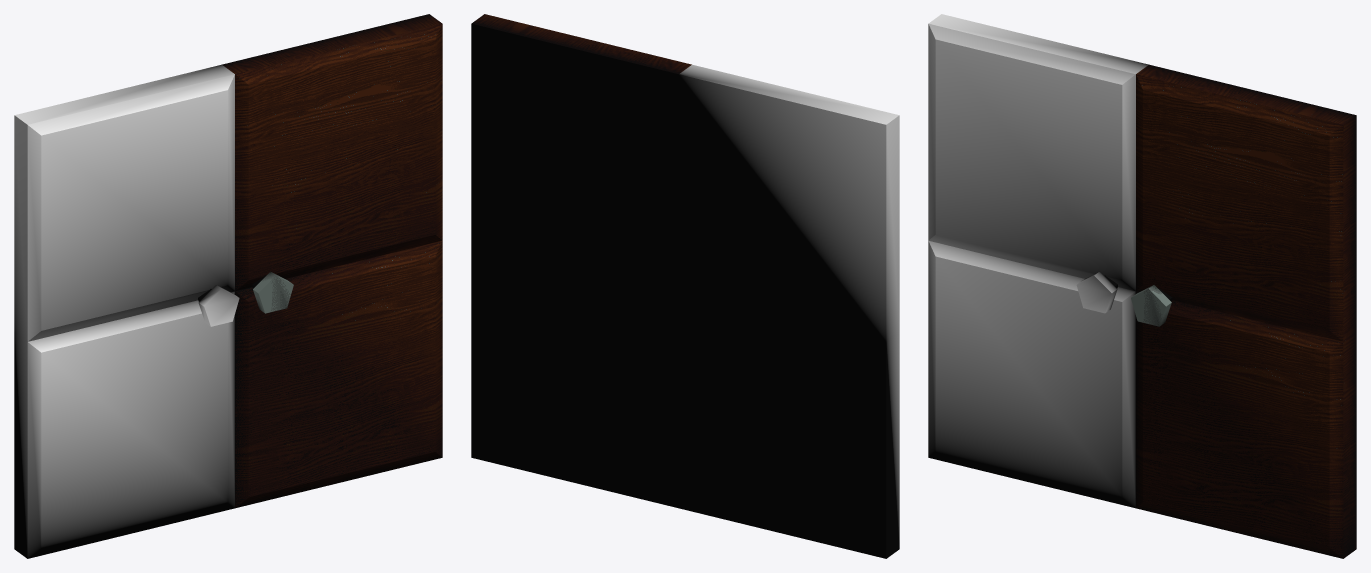
The model's file is LD56_WallCabinetDoors.fbx.
3 views of the same model, side by side, from view 1: azimuth 30°, elevation 25°; view 2: azimuth 150°, elevation 25°; view 3: azimuth 330°, elevation 25° (orthographic).
Parts seen in each view (by area): view 1: cabinetDoorL, cabinetDoorR; view 2: cabinetDoorL, cabinetDoorR; view 3: cabinetDoorR, cabinetDoorL.
Boxes of the visible parts, bbox=[...] form: cabinetDoorL: bbox=[14, 64, 239, 558]; cabinetDoorR: bbox=[222, 14, 442, 508]; cabinetDoorL: bbox=[679, 64, 899, 558]; cabinetDoorR: bbox=[471, 14, 691, 508]; cabinetDoorR: bbox=[1131, 64, 1356, 558]; cabinetDoorL: bbox=[928, 14, 1148, 508].
Size of the model in its own units: 200 by 200 by 22.91.
